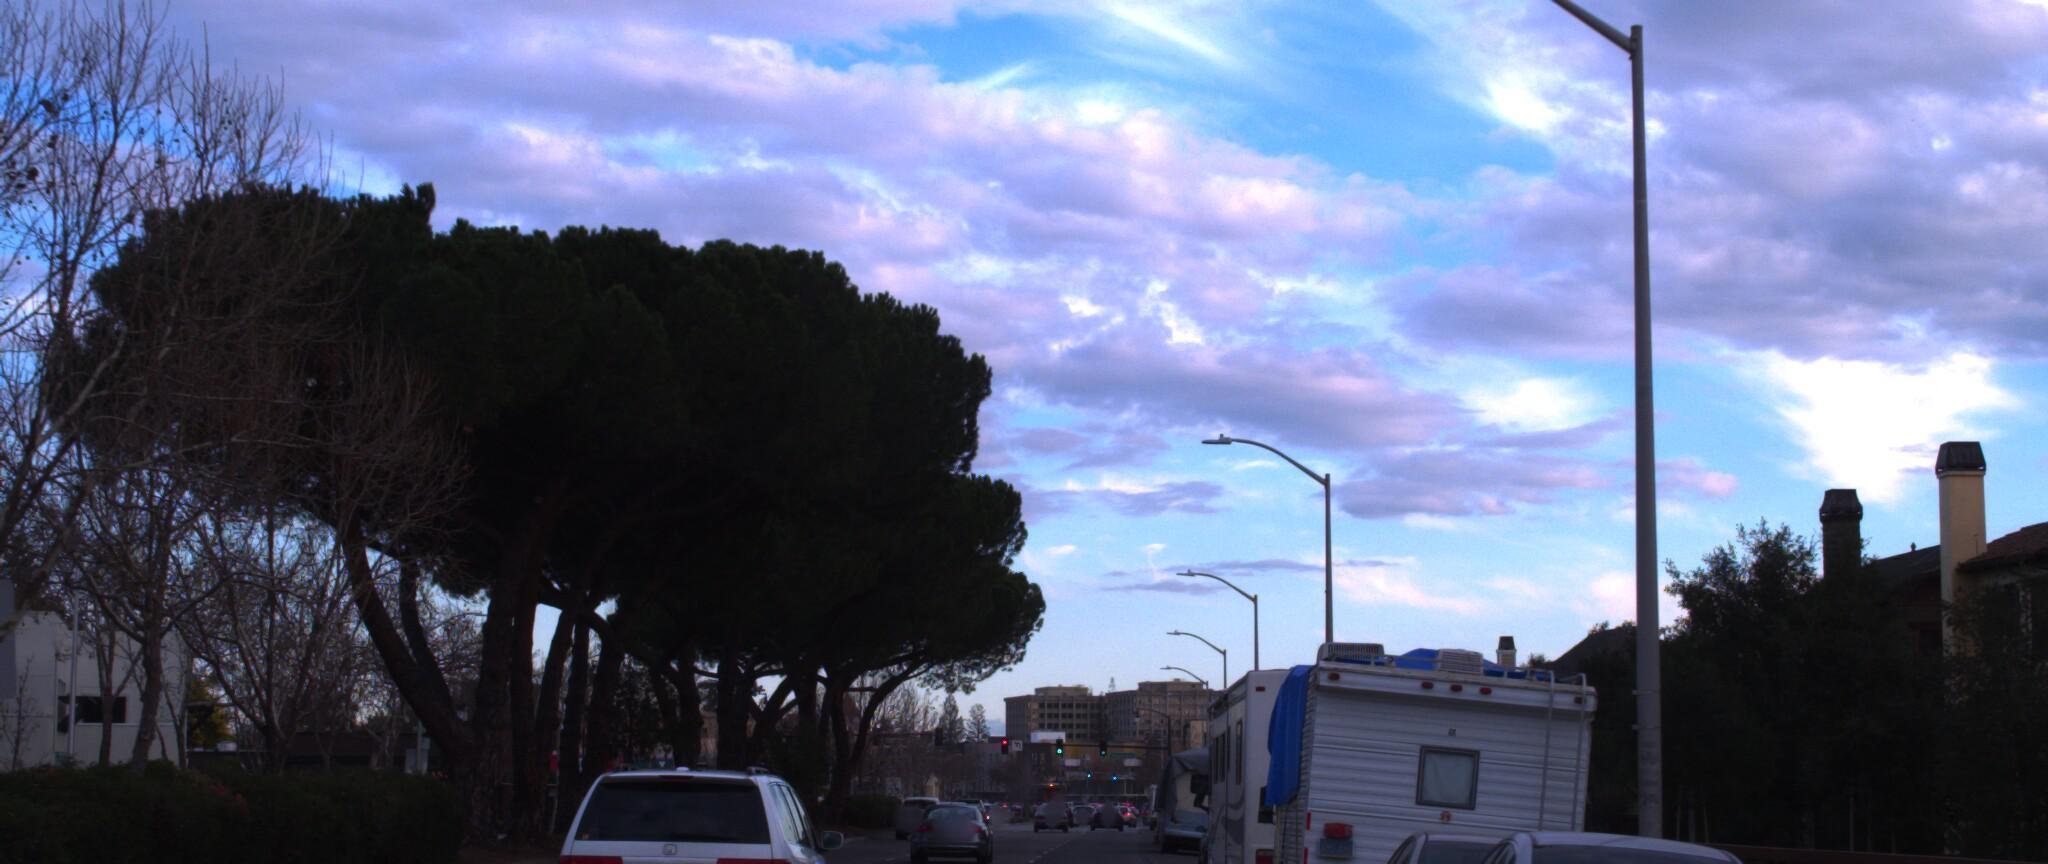bus: (1190, 606, 1477, 864)
car: (526, 752, 856, 864), (1390, 803, 1832, 864), (1324, 801, 1633, 864), (897, 775, 998, 850), (1607, 854, 2048, 864)
other_vehicle: (1243, 632, 1610, 864)
